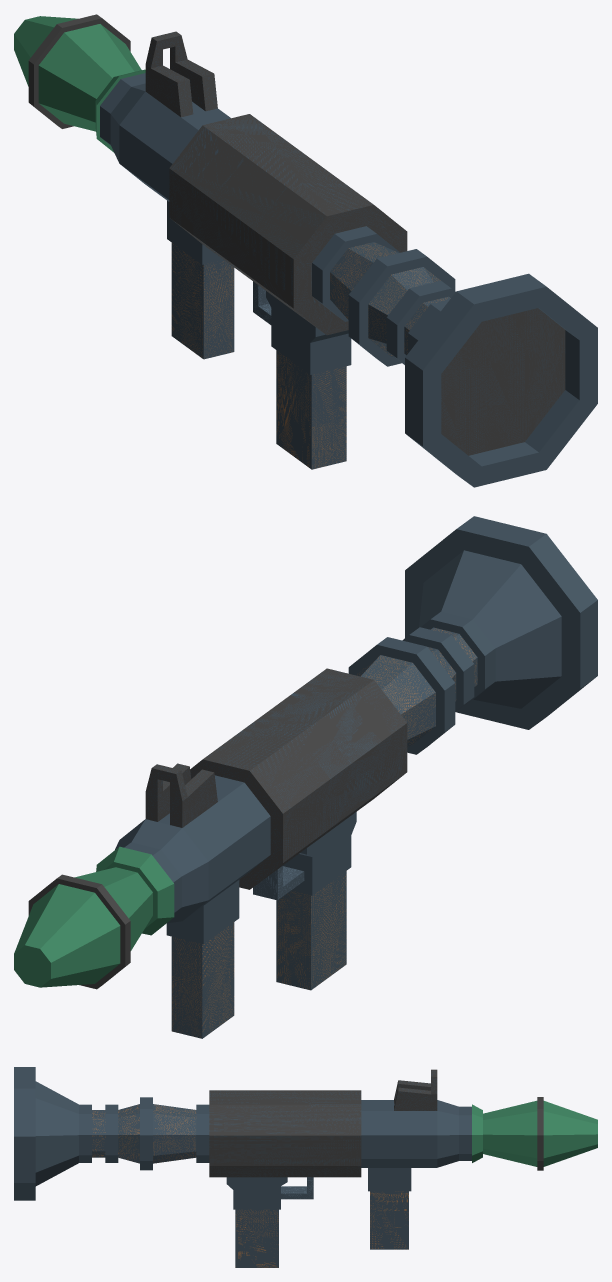
File: rocketlauncher.obj
3 renders of one model, top to bottom at view 1: azimuth 30°, elevation 25°; view 2: azimuth 150°, elevation 25°; view 3: azimuth 270°, elevation 25°, orthographic. The views are drawn at different scales.
Visible parts, largest first — view 1: Group; view 2: Group; view 3: Group.
Part boxes in pixels (x1,y1,x2,y2): Group: (14,14,597,487); Group: (14,516,597,1038); Group: (14,1067,597,1267).
Size of the model in its own units: 0.2179 by 0.3686 by 1.03.
